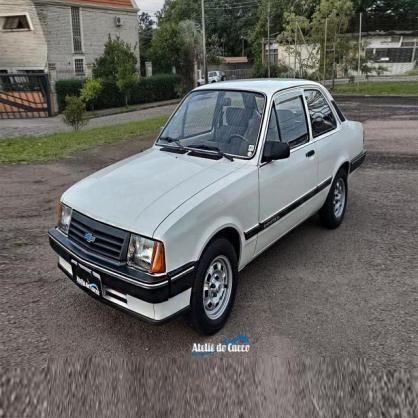car: (55, 77, 369, 337)
